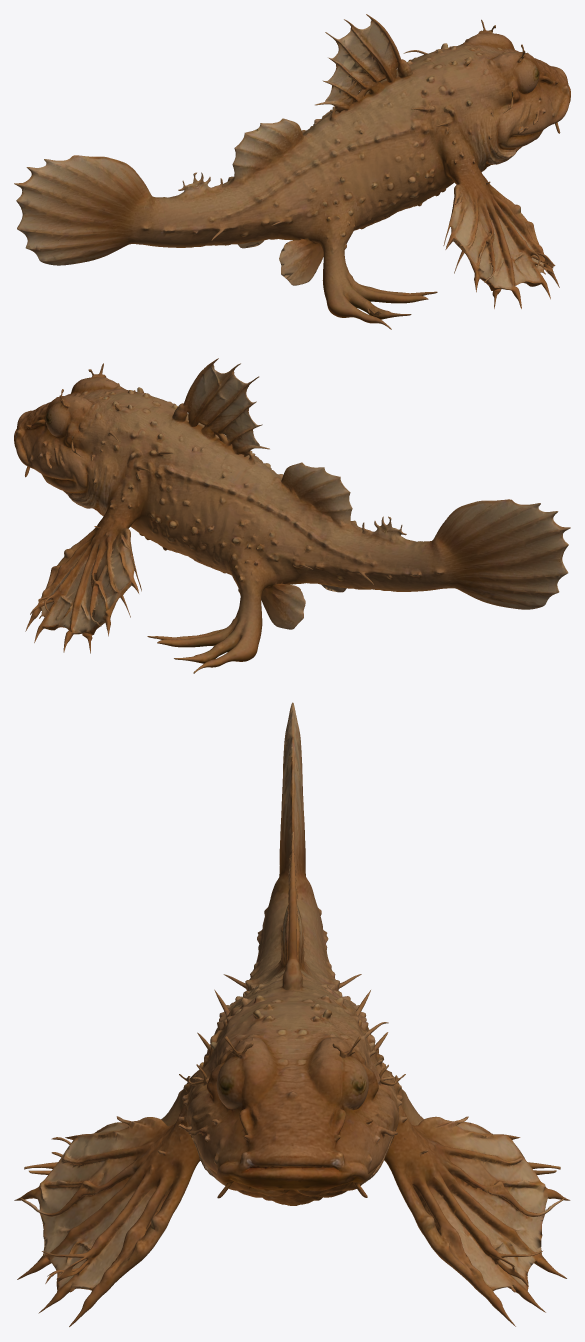
3 views of the same model, one above another, from view 1: azimuth 30°, elevation 25°; view 2: azimuth 150°, elevation 25°; view 3: azimuth 270°, elevation 25° (orthographic). The views are drawn at different scales.
Visible parts, largest first — view 1: tripo_node_79f8947a-f916-4937-8485-670a0f15da4a; view 2: tripo_node_79f8947a-f916-4937-8485-670a0f15da4a; view 3: tripo_node_79f8947a-f916-4937-8485-670a0f15da4a.
Boxes of the visible parts, x1=… form: tripo_node_79f8947a-f916-4937-8485-670a0f15da4a: x1=14, y1=14, x2=570, y2=329; tripo_node_79f8947a-f916-4937-8485-670a0f15da4a: x1=14, y1=358, x2=570, y2=673; tripo_node_79f8947a-f916-4937-8485-670a0f15da4a: x1=14, y1=702, x2=570, y2=1326.
Size of the model in its own units: 0.9987 by 0.4357 by 0.5671.
1 material, 1 textured.
